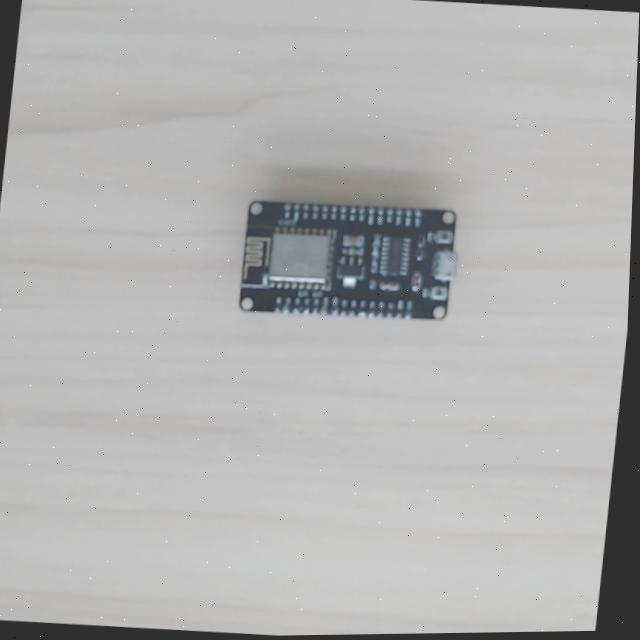ESP8266-NodeMCU: (239, 201, 459, 321)
